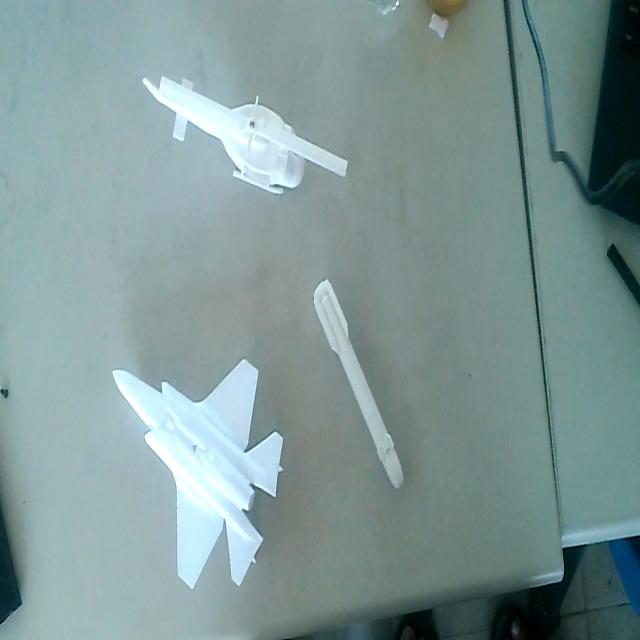Helicopter: (143, 66, 350, 203)
Jet: (110, 356, 284, 604)
Rocket: (312, 274, 406, 496)
